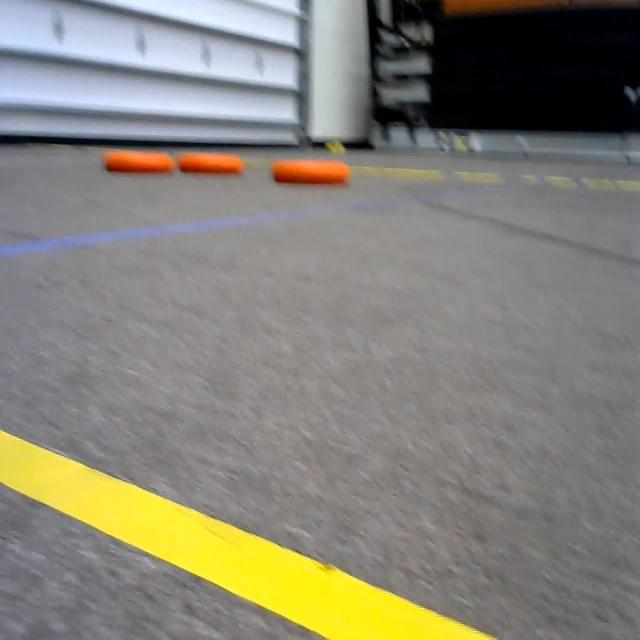note: (268, 150, 352, 188), (100, 138, 174, 180), (176, 144, 246, 177)
